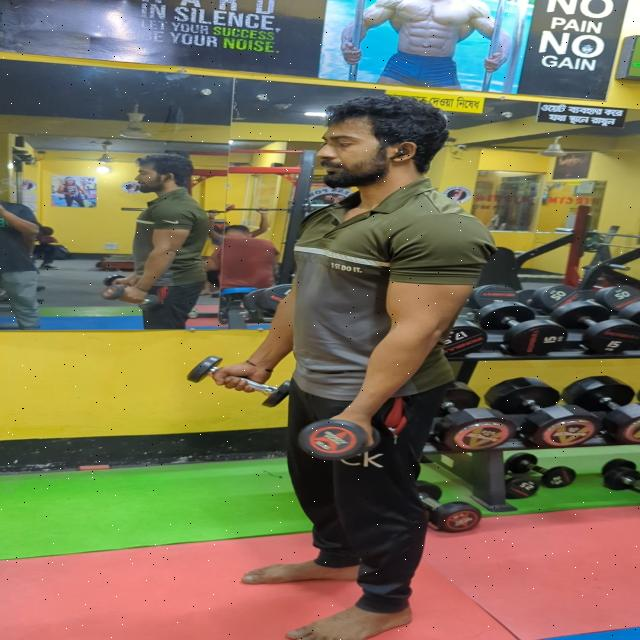Normal_DumbbellBicepCurls: (178, 109, 543, 609)
